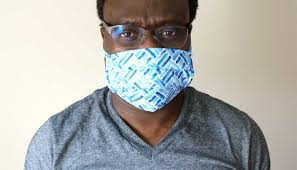FaceMask: (106, 47, 195, 112)
